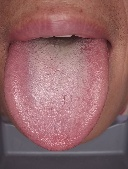tongue: (2, 47, 109, 152)
